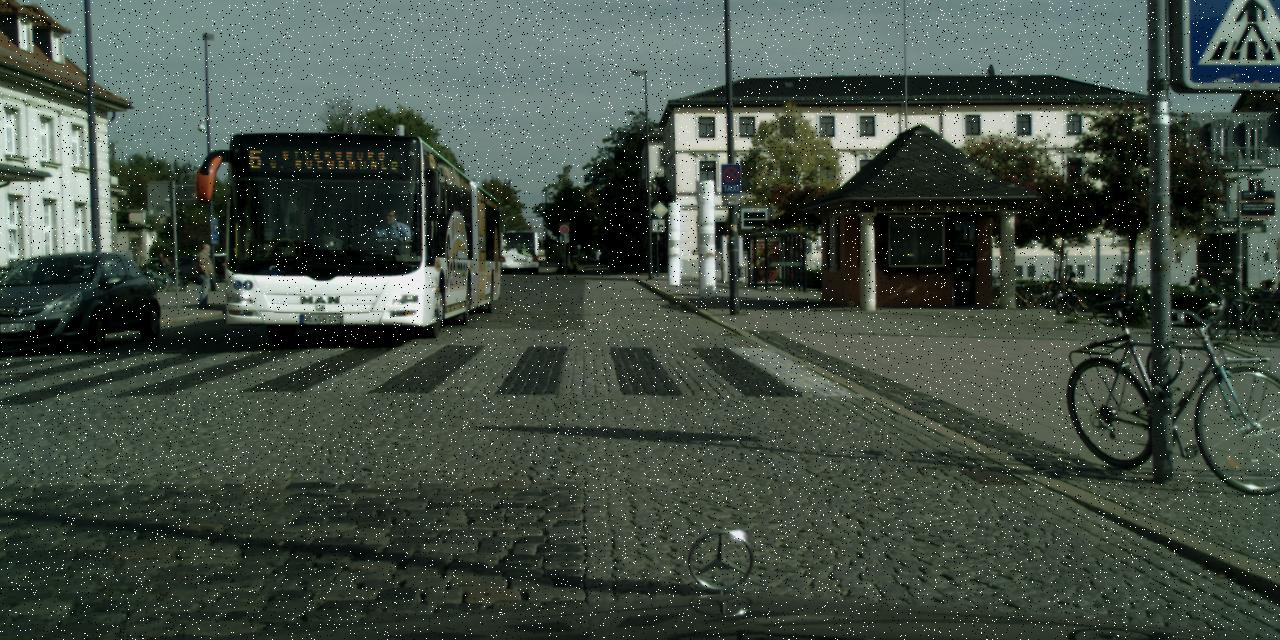ped: (156, 252, 170, 287), (1189, 277, 1209, 292), (1067, 271, 1081, 287), (1262, 278, 1276, 290)
